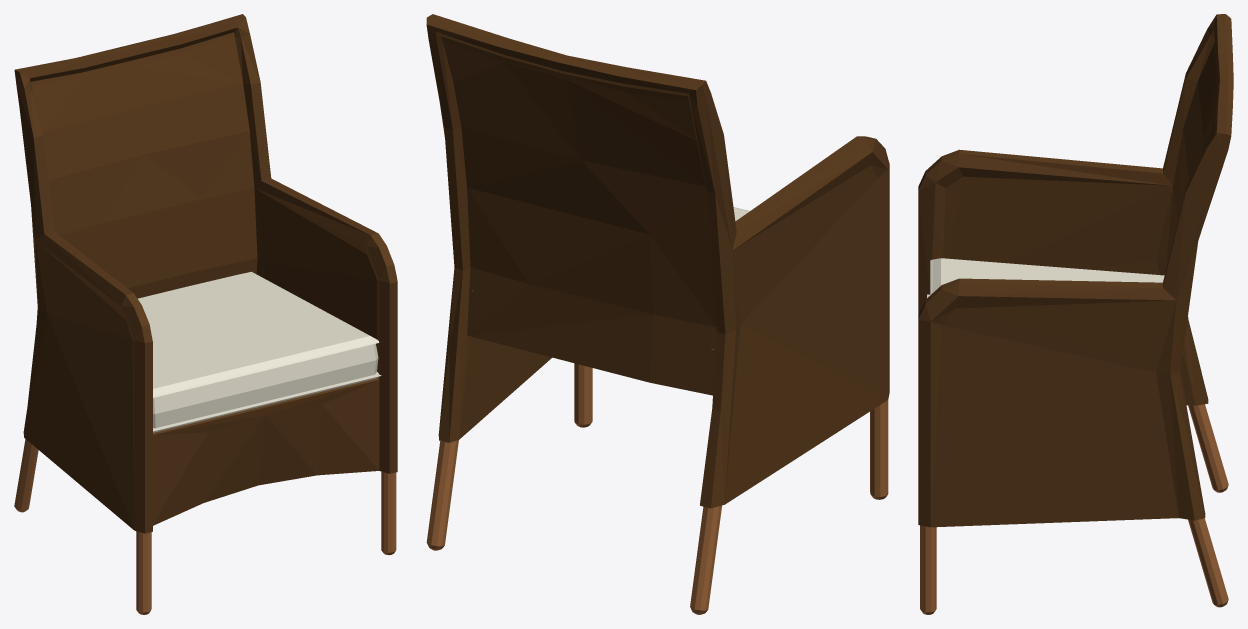
File: chair-by-cmht-oculus-aE28ttTQtad.glb
3 views of the same model, side by side, from view 1: azimuth 30°, elevation 25°; view 2: azimuth 150°, elevation 25°; view 3: azimuth 270°, elevation 25° (orthographic). The views are drawn at different scales.
Parts seen in each view (by area): view 1: Node; view 2: Node; view 3: Node.
Boxes of the visible parts, x1,y1,x2,y2 form: Node: (14, 14, 397, 614); Node: (426, 14, 889, 614); Node: (918, 14, 1233, 614).
Size of the model in its own units: 24.47 by 39.36 by 23.65.
